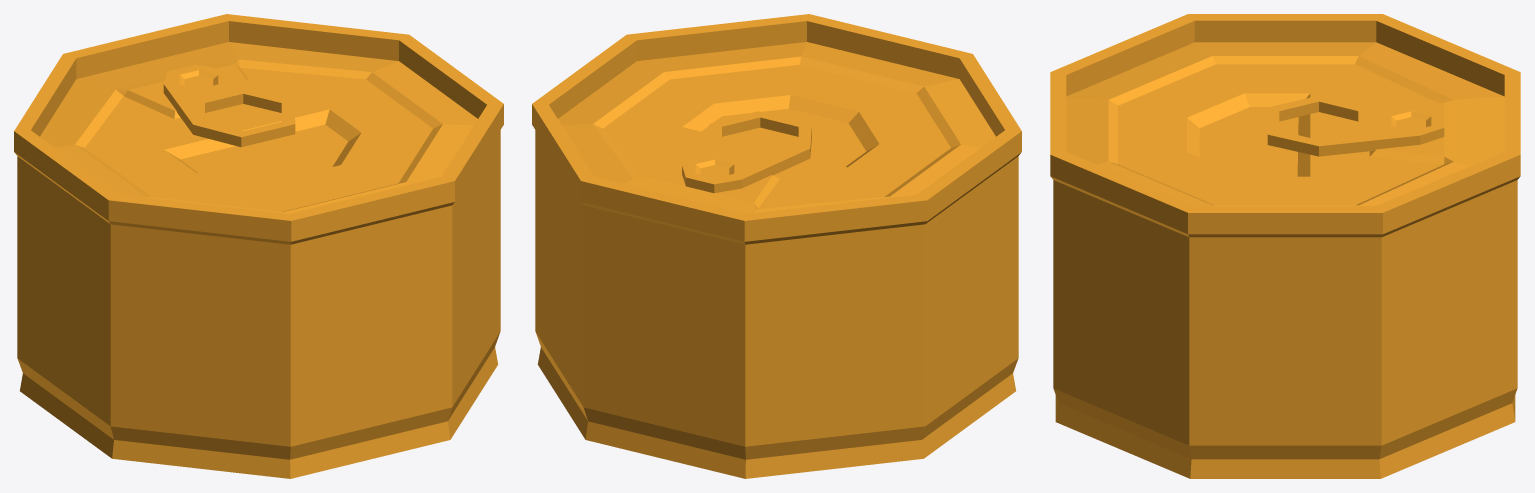
Rendered from SM_Can_Catfood_Small_Closed.fbx.
3 views of the same model, side by side, from view 1: azimuth 30°, elevation 25°; view 2: azimuth 150°, elevation 25°; view 3: azimuth 270°, elevation 25° (orthographic). The views are drawn at different scales.
Visible parts, largest first — view 1: SM_Can_Catfood_Small_Closed; view 2: SM_Can_Catfood_Small_Closed; view 3: SM_Can_Catfood_Small_Closed.
Boxes of the visible parts, bbox=[...] form: SM_Can_Catfood_Small_Closed: bbox=[14, 14, 503, 478]; SM_Can_Catfood_Small_Closed: bbox=[532, 14, 1021, 478]; SM_Can_Catfood_Small_Closed: bbox=[1050, 14, 1520, 478].
Bounding box in the file's own units: 0.0823 × 0.0518 × 0.0823.
